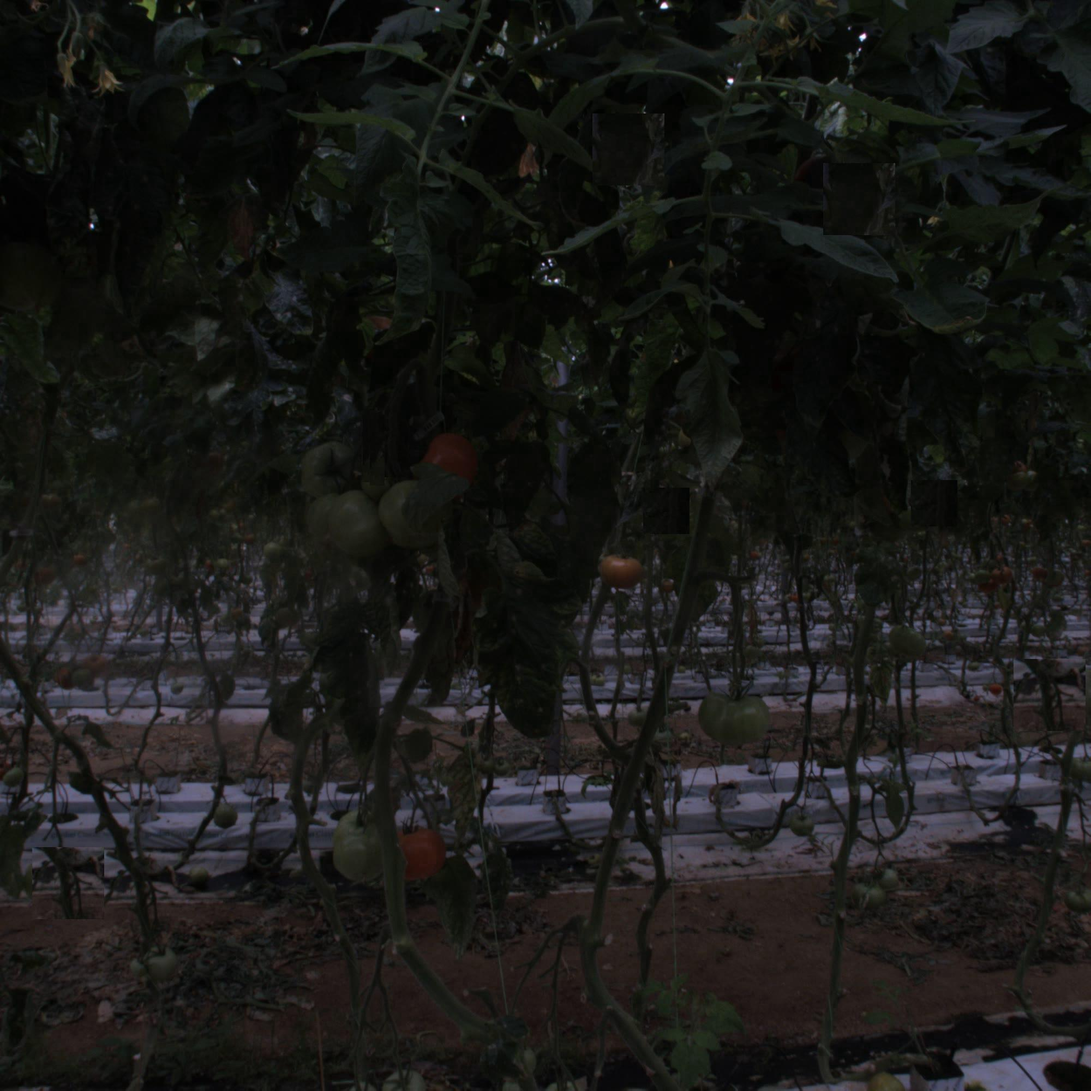fully-ripe: (386, 823, 443, 880), (421, 436, 478, 493), (597, 545, 646, 594)
unripe: (328, 490, 394, 555), (379, 479, 444, 544), (702, 682, 767, 747), (299, 441, 356, 498), (337, 833, 385, 881)
